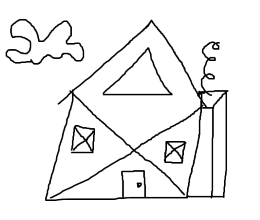closed_window: (70, 125, 95, 153), (163, 140, 185, 164)
clouds: (5, 17, 84, 65)
door: (116, 165, 151, 202)
roof: (52, 19, 211, 108)
smoking_chimney: (195, 33, 231, 123)
wall: (45, 91, 205, 202)
